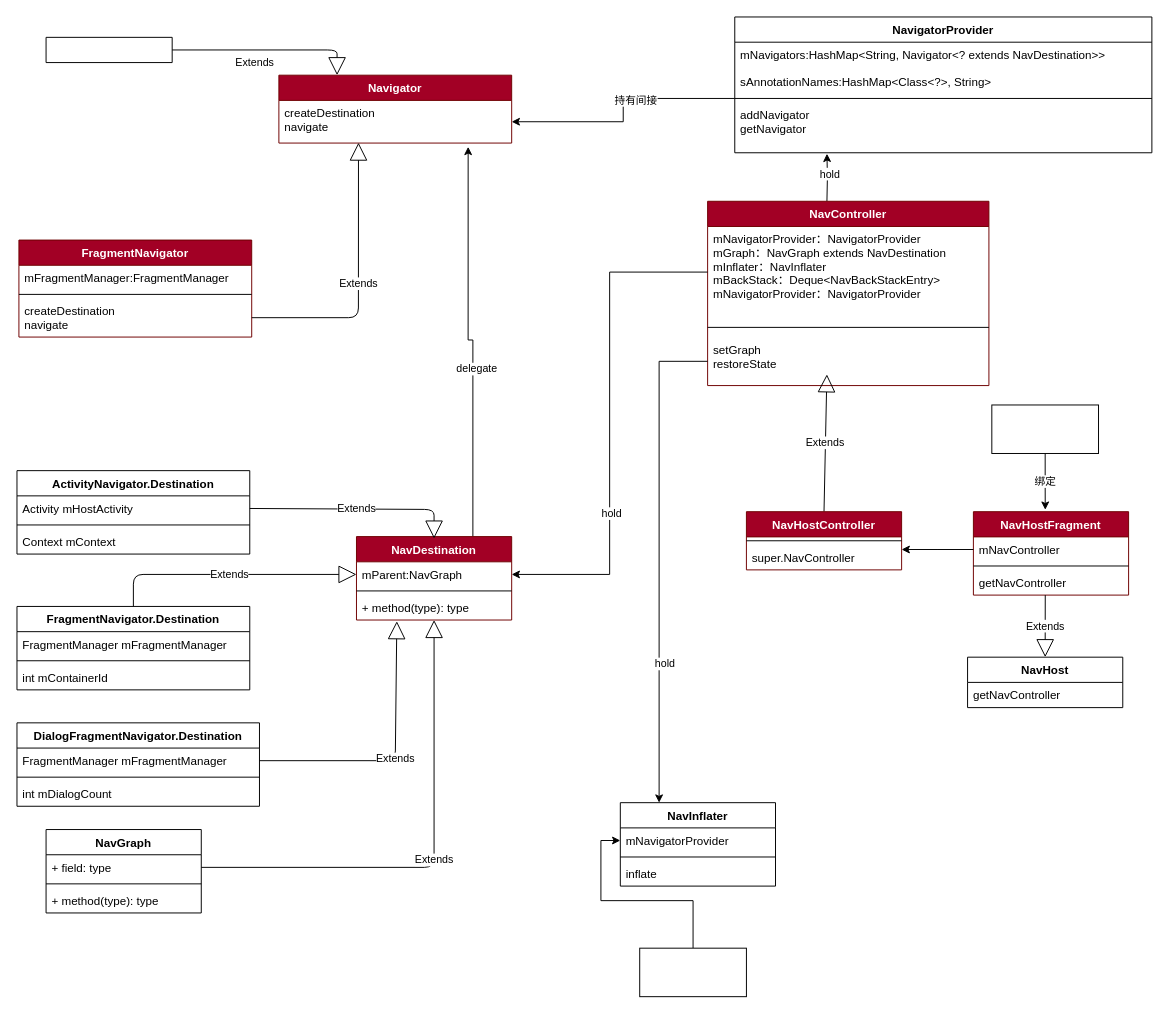
The diagram is 1169 pixels wide and 1014 high, and some of its shapes have lost their labels. Each missing label, with the centre of its shape:
"Activity" belongs at pixel 1045 428.
"ActivityNavigator" belongs at pixel 108 49.
"Navigation.xml" belongs at pixel 692 972.
